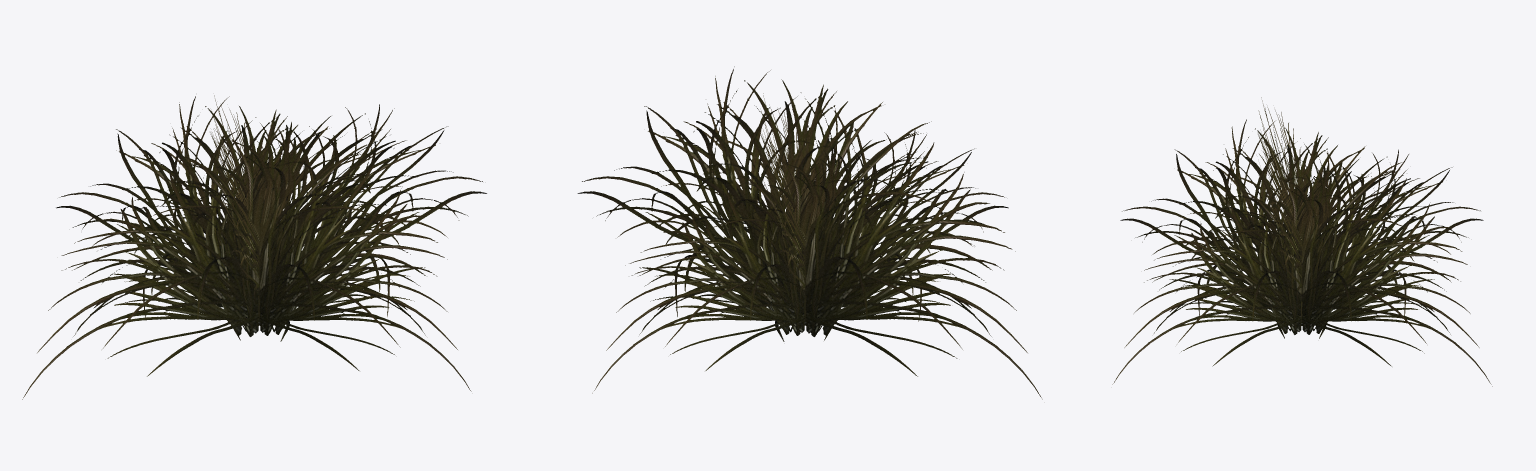
Rendered from grass_4.fbx.
The picture shows the model from 3 angles, left to right: view 1: azimuth 30°, elevation 25°; view 2: azimuth 150°, elevation 25°; view 3: azimuth 270°, elevation 25°; orthographic projection. The views are drawn at different scales.
Visible parts, largest first — view 1: grass_4; view 2: grass_4; view 3: grass_4.
Boxes of the visible parts, bbox=[...] form: grass_4: bbox=[22, 95, 486, 399]; grass_4: bbox=[577, 66, 1042, 399]; grass_4: bbox=[1112, 97, 1492, 386].
Bounding box in the file's own units: 1.12 × 0.5593 × 0.9188.
Materials: 1 (1 with a texture image).
